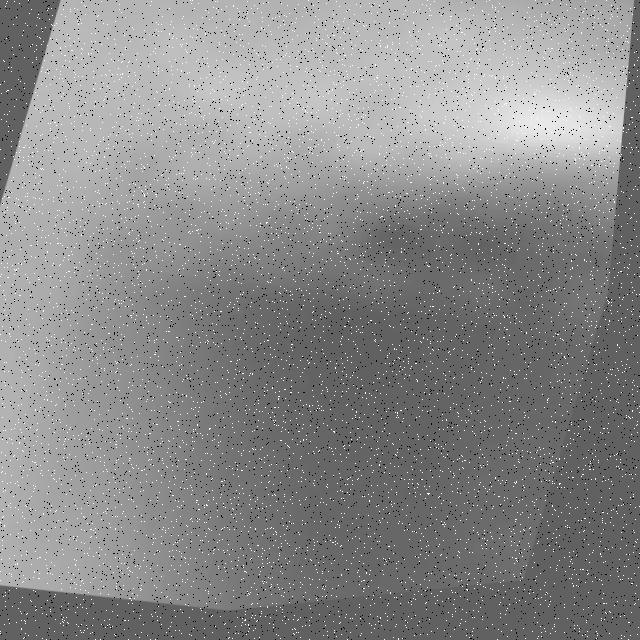person: (48, 1, 640, 314)
